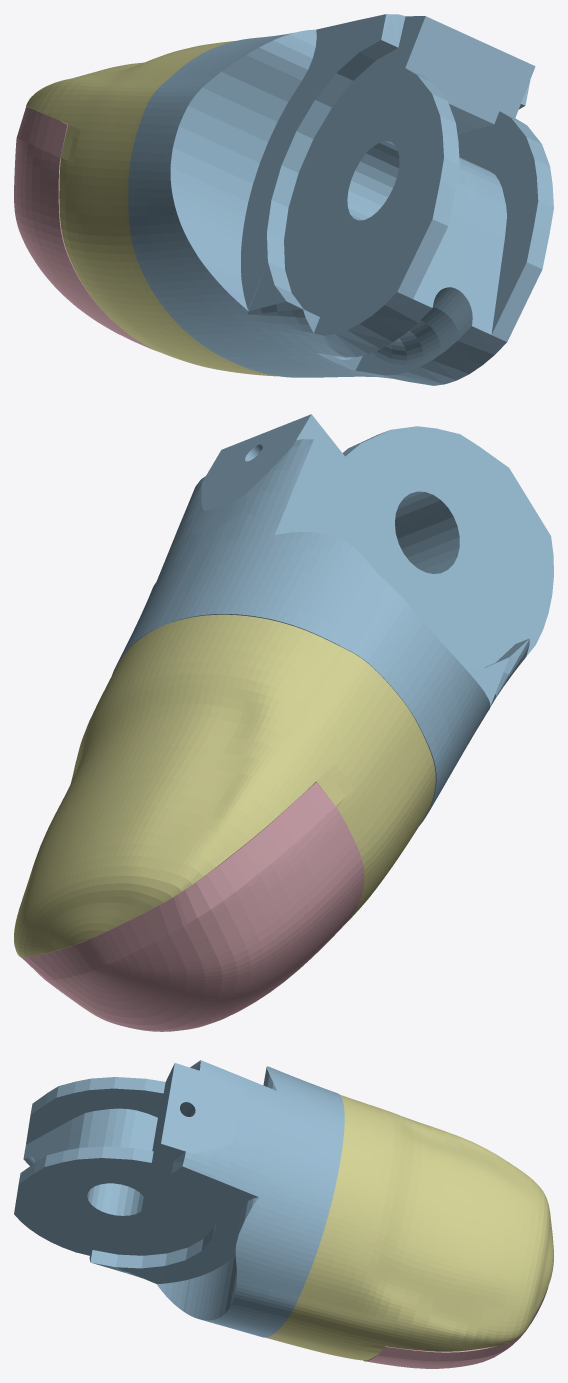
Rendered from i02_leftHand_ringFingerTip_visual.obj.
3 views of the same model, one above another, from view 1: azimuth 30°, elevation 25°; view 2: azimuth 150°, elevation 25°; view 3: azimuth 270°, elevation 25° (orthographic). The views are drawn at different scales.
Parts seen in each view (by area): view 1: i02_leftHand_ringFingerTip_visual.001; view 2: i02_leftHand_ringFingerTip_visual.001; view 3: i02_leftHand_ringFingerTip_visual.001.
Boxes of the visible parts, <box> form: i02_leftHand_ringFingerTip_visual.001: <box>14,14,553,385</box>; i02_leftHand_ringFingerTip_visual.001: <box>14,414,553,1031</box>; i02_leftHand_ringFingerTip_visual.001: <box>14,1060,553,1368</box>.
Bounding box in the file's own units: 0.1603 × 0.2072 × 0.326.
